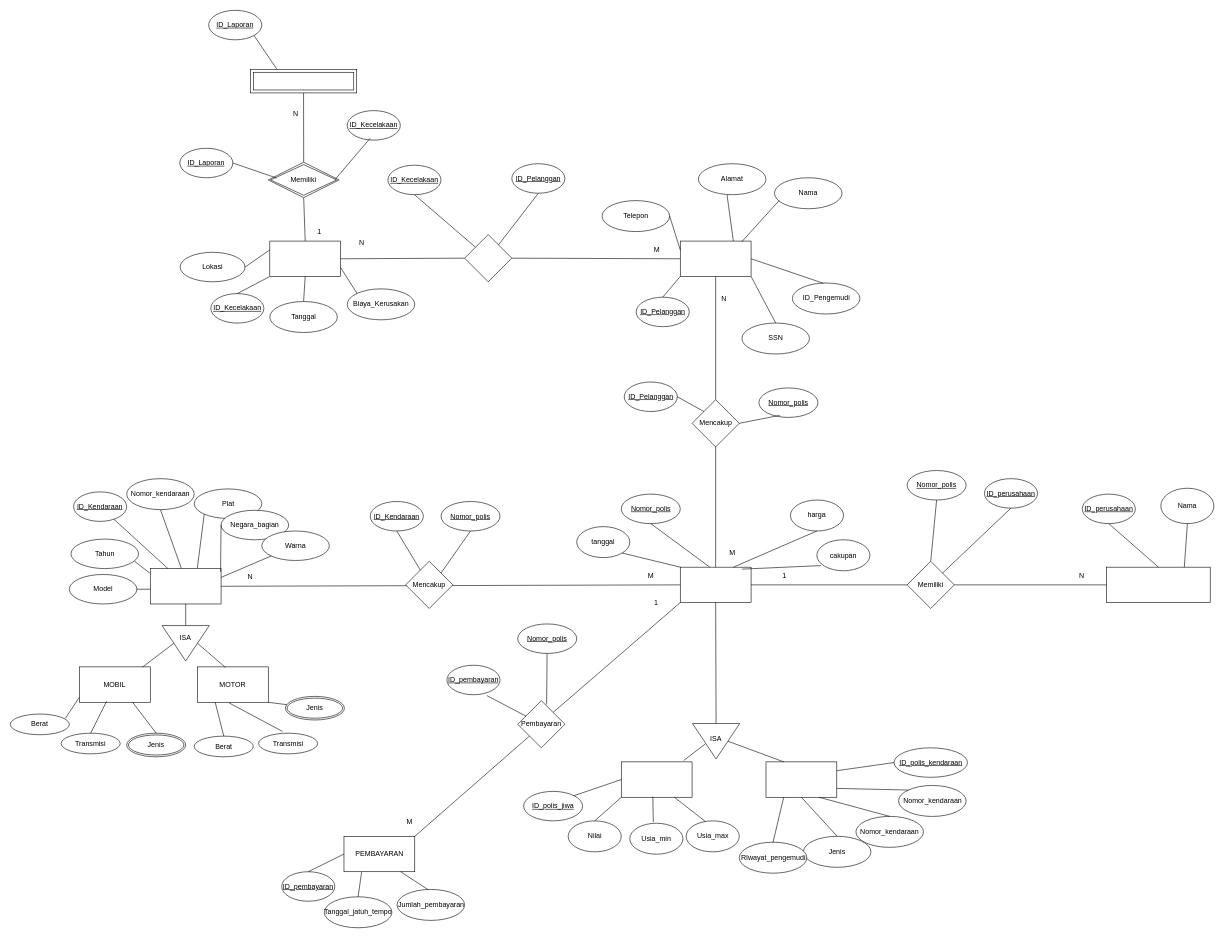
This 1224x938 diagram has some shape labels left out. The centre of each missing label's shape, as x and y in pixels:
KECELAKAAN: the point at 305,258
KENDARAAN: the point at 185,586
LAPORAN_KECELAKAAN: the point at 303,81
Mengalami: the point at 488,258
PELANGGAN: the point at 715,258
PERUSAHAAN_ASURANSI: the point at 1158,585
POLIS: the point at 715,585
POLIS_JIWA: the point at 656,779
POLIS_KENDARAAN: the point at 801,779
